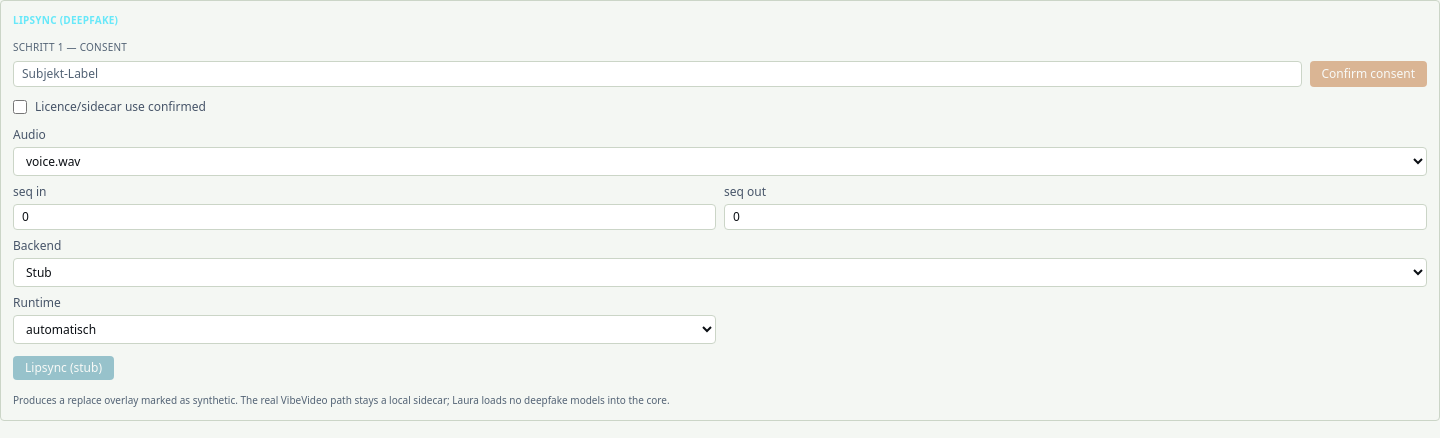
Test: LipsyncPanel › keeps lipsync disabled until consent and license are confirmed
Expected: the button "Lipsync (stub)" is disabled, [13,356,114,380]
Type "Person A" into the field named "Subject label for lipsync consent" at (657, 74), box [13,61,1302,87]
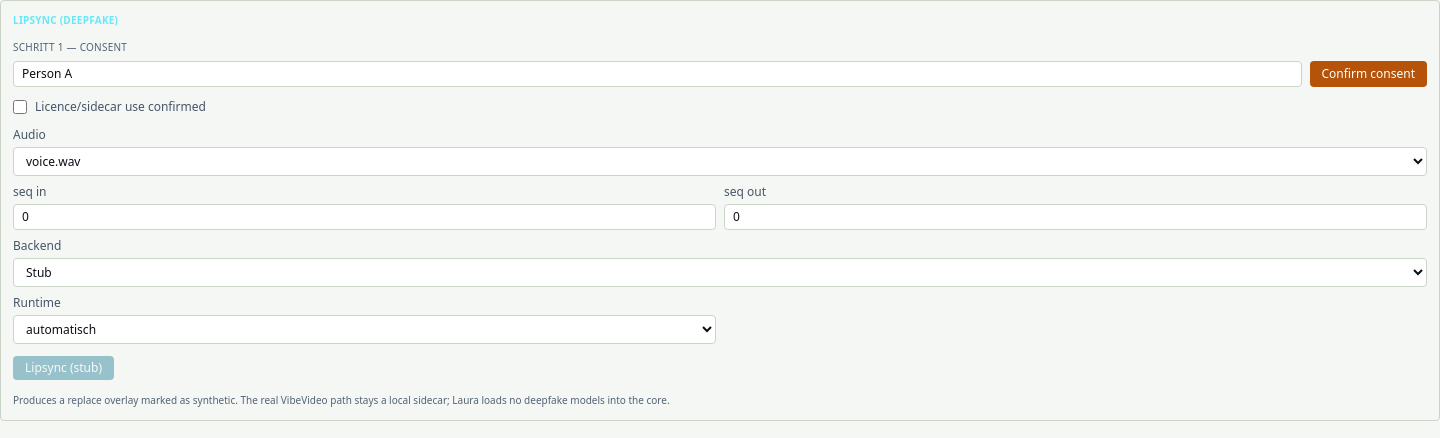
Click the button "Confirm consent" at (1368, 74), box [1310,61,1427,87]
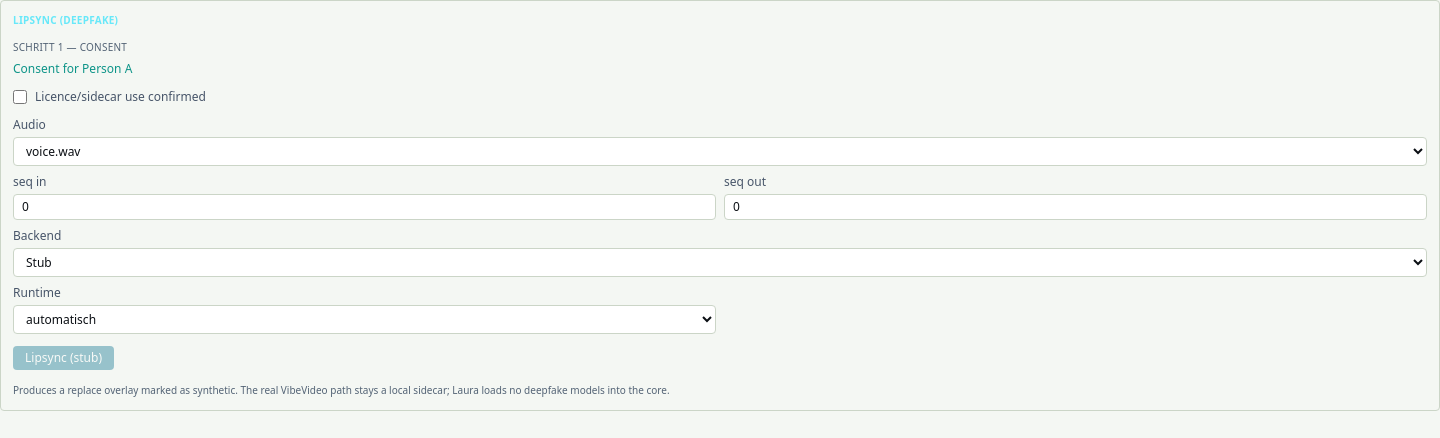
Expected: the button "Lipsync (stub)" is disabled, [13,346,114,370]
Click the checkbox named "Licence and use confirmed" at (20, 97), box [13,90,27,104]
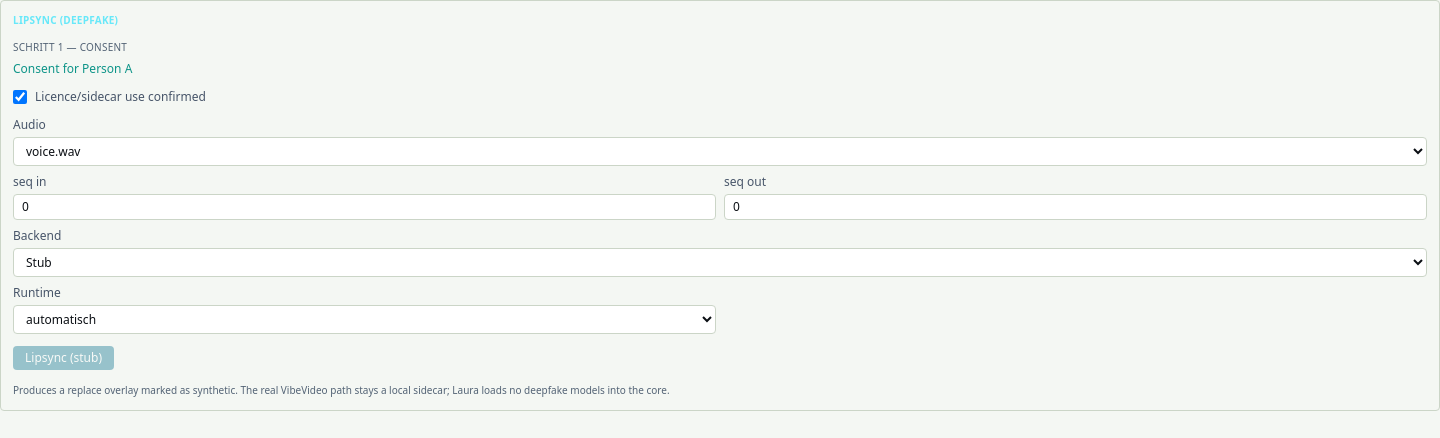
Replace the text in the number field named "Lipsync seq out" with "30" at (1076, 207), box [724,194,1427,220]
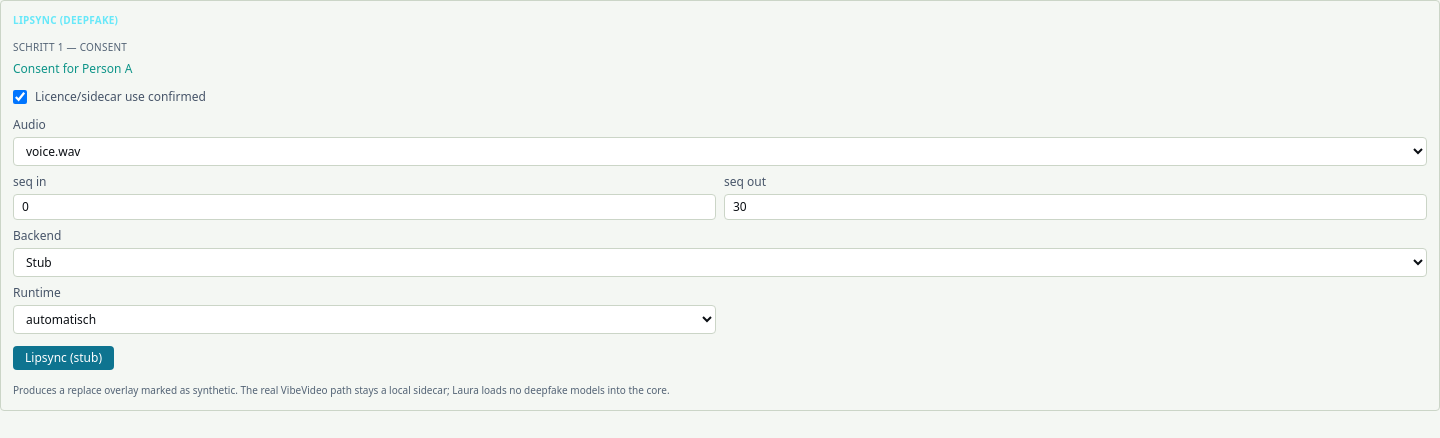
Result: the button "Lipsync (stub)" is enabled at [13,346,114,370]
